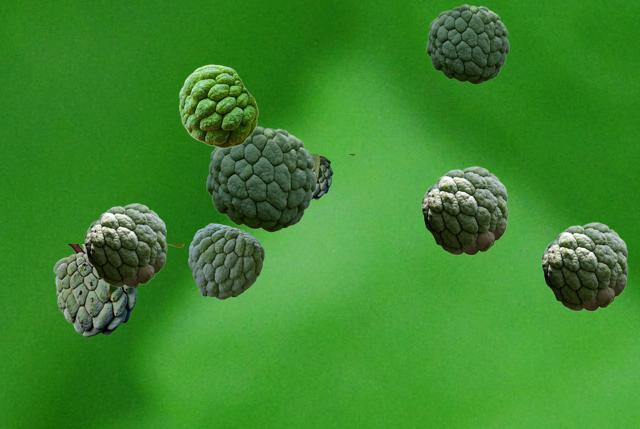atis: (53, 244, 183, 336), (206, 126, 315, 231), (421, 166, 507, 254), (541, 222, 627, 310), (84, 203, 166, 286), (426, 4, 508, 83), (179, 64, 257, 147), (188, 223, 263, 298), (311, 154, 354, 199)
